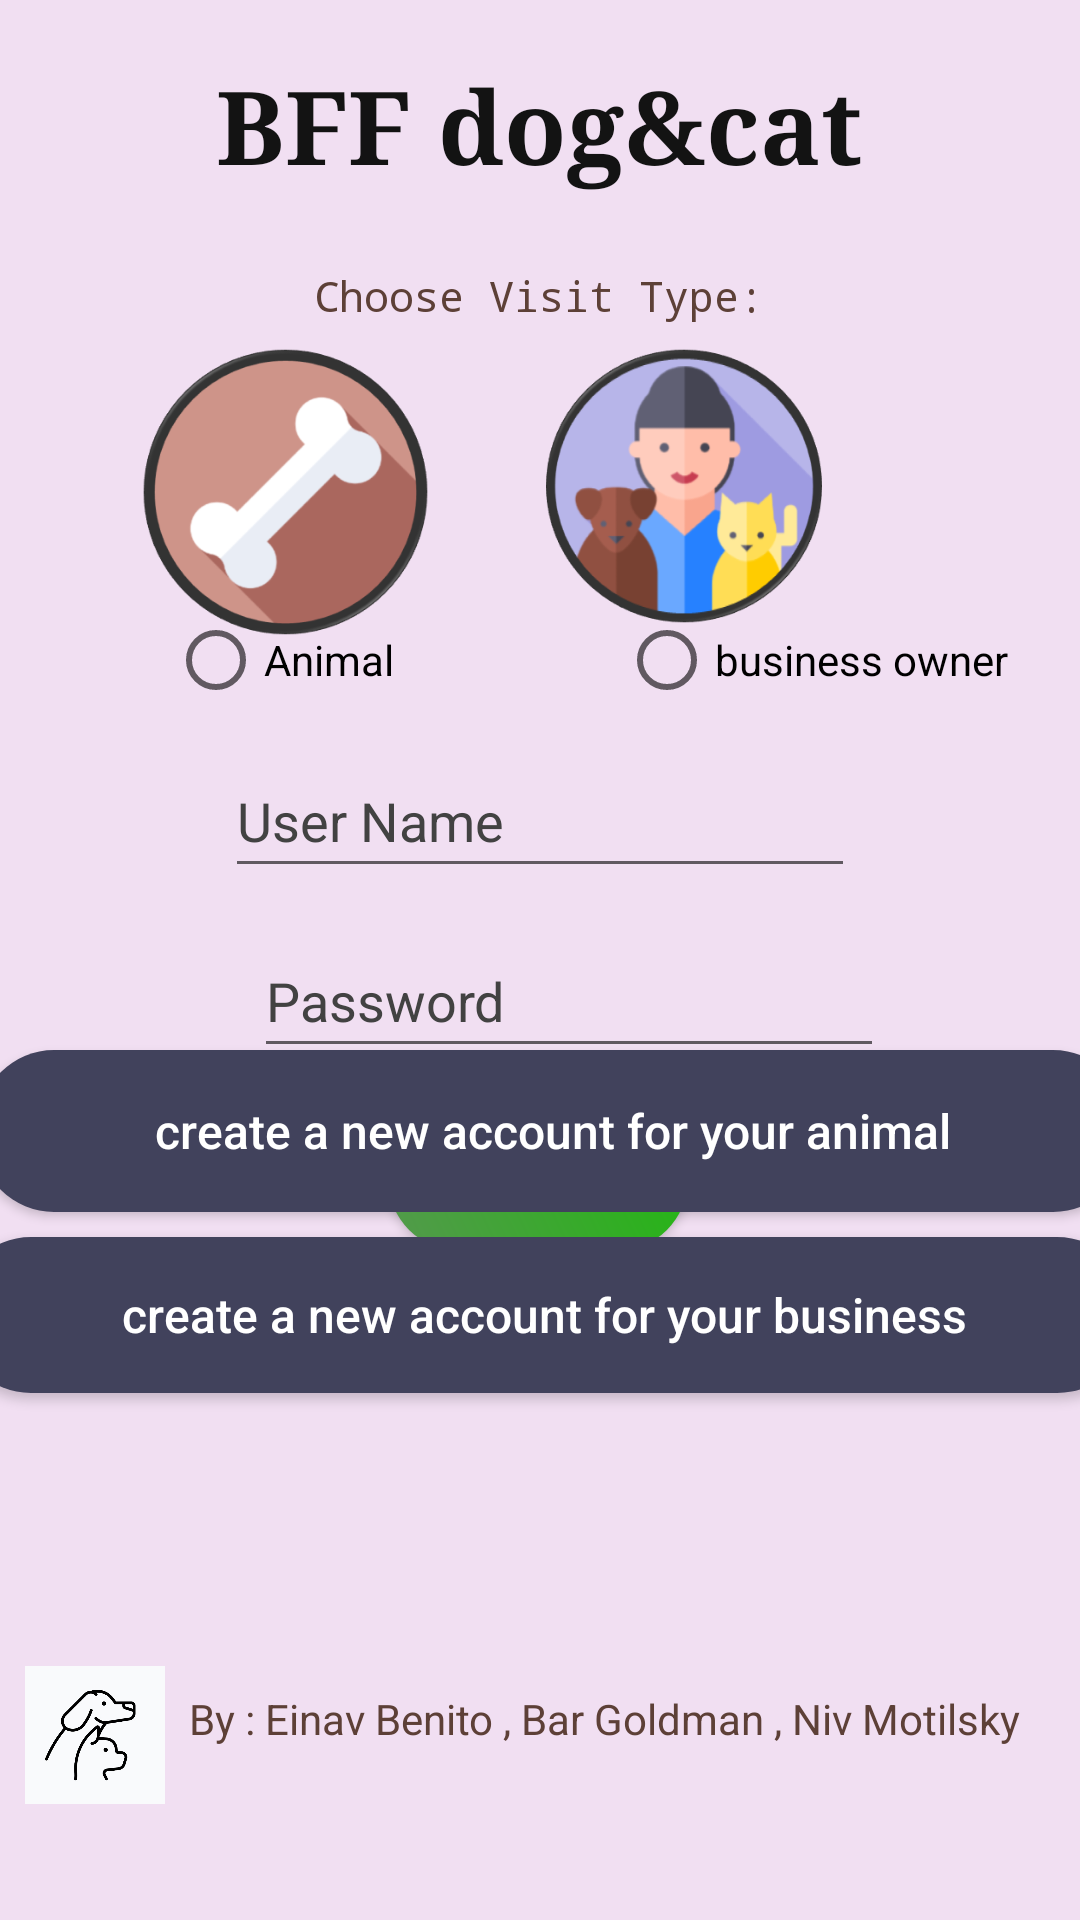

Named icons in this screenshot (1080*1920) and their bounding boxes, (x1, y1, x2, y2):
doguser: (143, 349, 428, 635)
vetuser: (546, 349, 822, 623)
